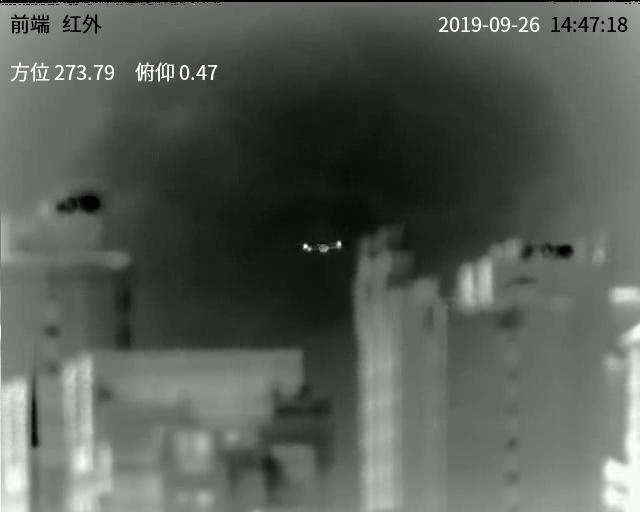DRONE: (301, 240, 343, 254)
